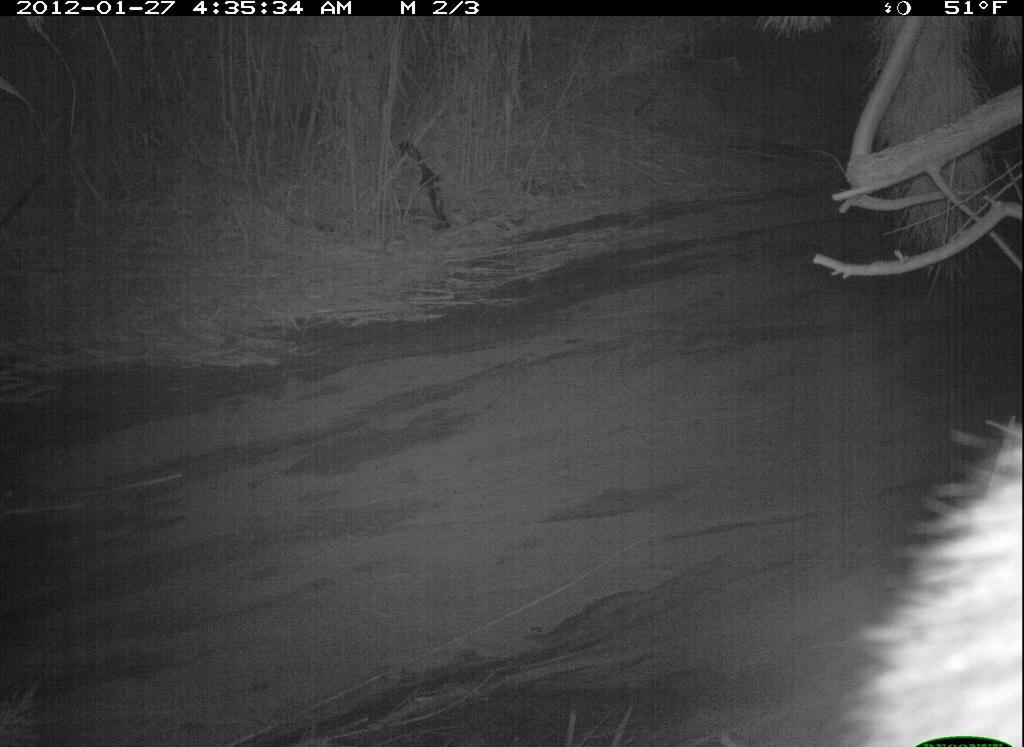raccoon: (848, 396, 1023, 747)
